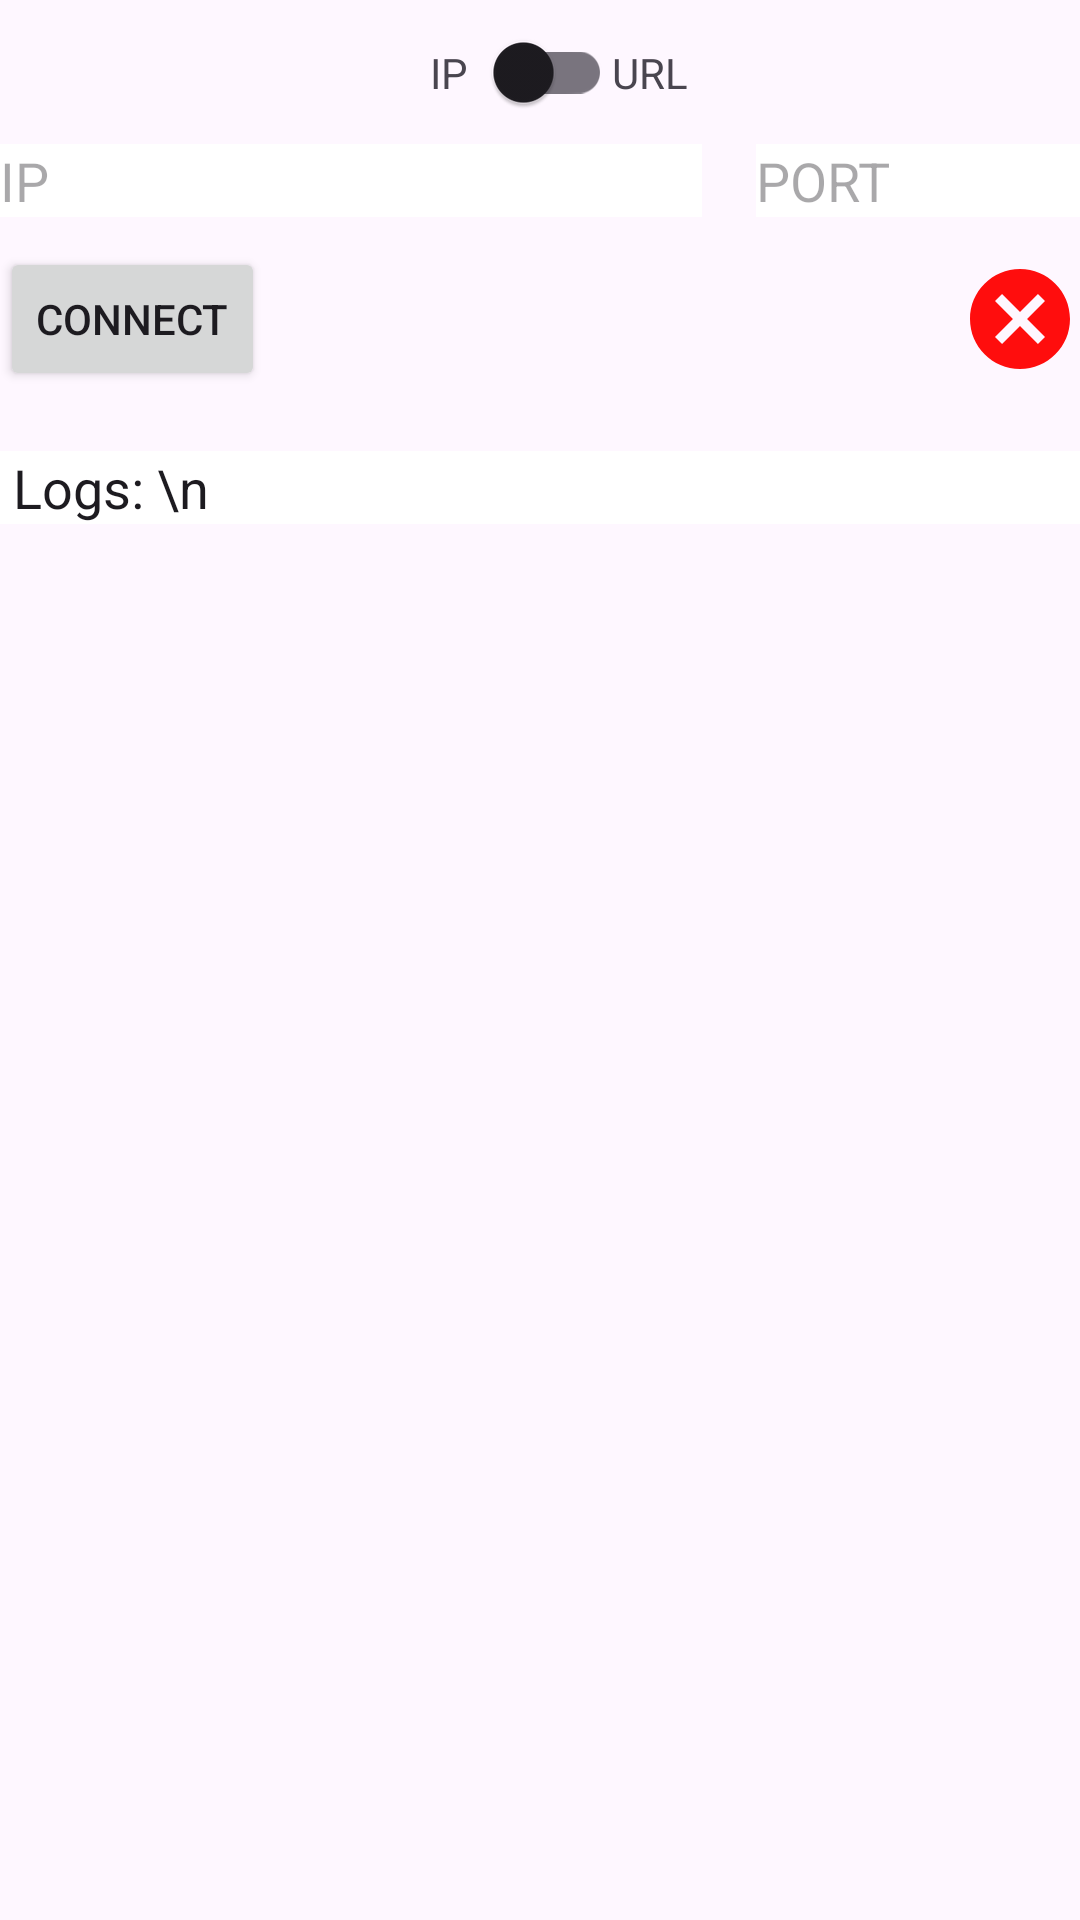

Screen size 1080px×1920px. Icon name, then its center in pixels as (x,y):
cancel: (1020,319)
